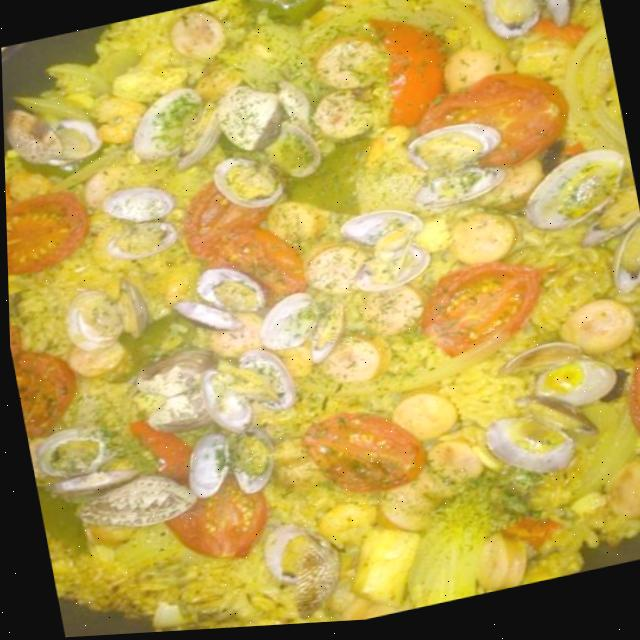炸货点心: (61, 36, 607, 615)
熟制海鲜: (61, 36, 607, 615)
